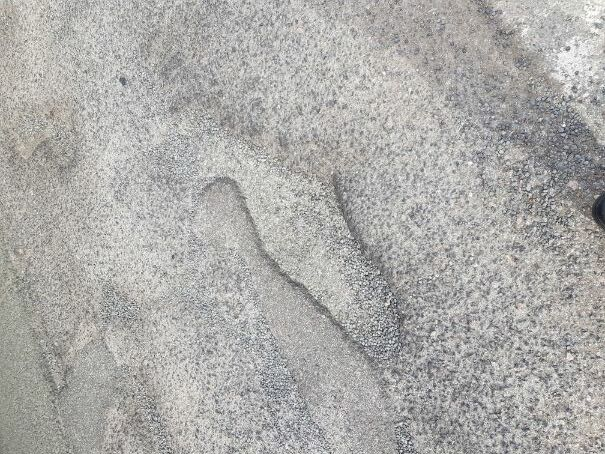pothole: (191, 129, 415, 371)
